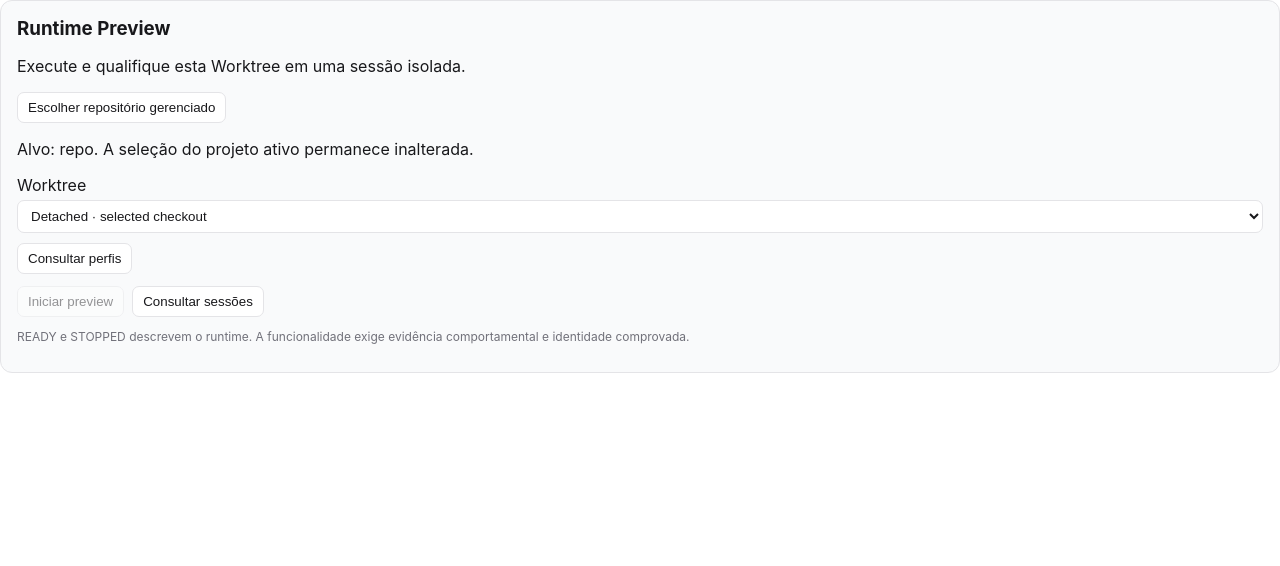
Test: selects another catalog repository without activating it and clears the original worktree and profile
Step 1. Click the button "Escolher repositório gerenciado" → click(122, 108), box left=17, top=92, right=226, bottom=123
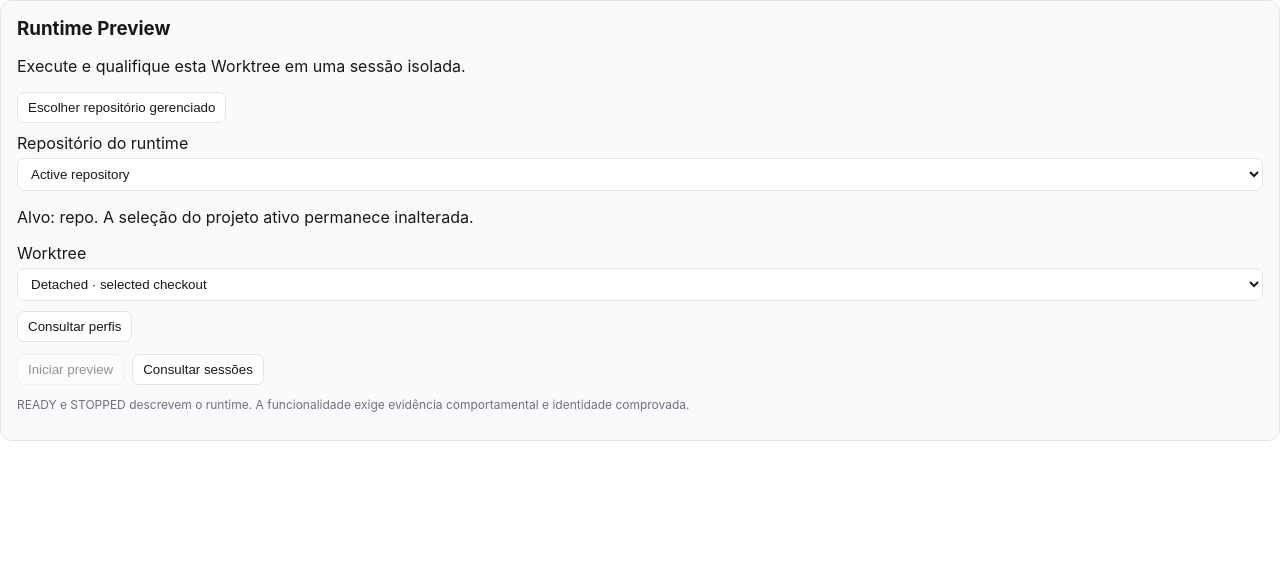
Step 2. Select "Other repository" in the dropdown labelled "Repositório do runtime" → (640, 174), box left=17, top=158, right=1263, bottom=191
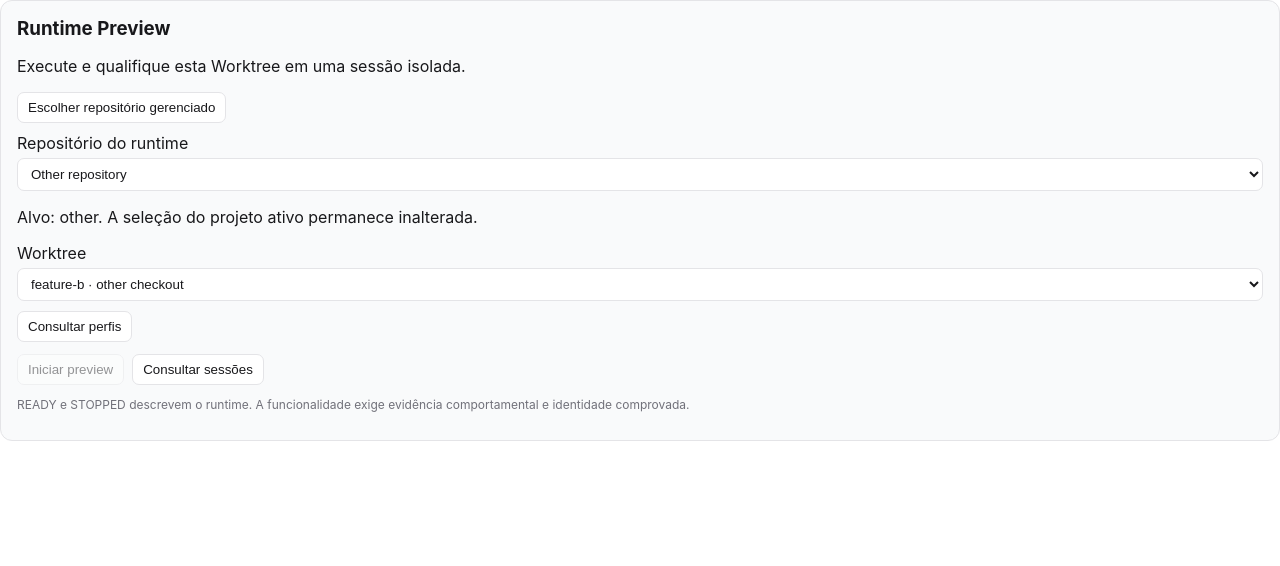
Step 3. Click the button "Consultar perfis" → click(75, 326), box left=17, top=311, right=132, bottom=342
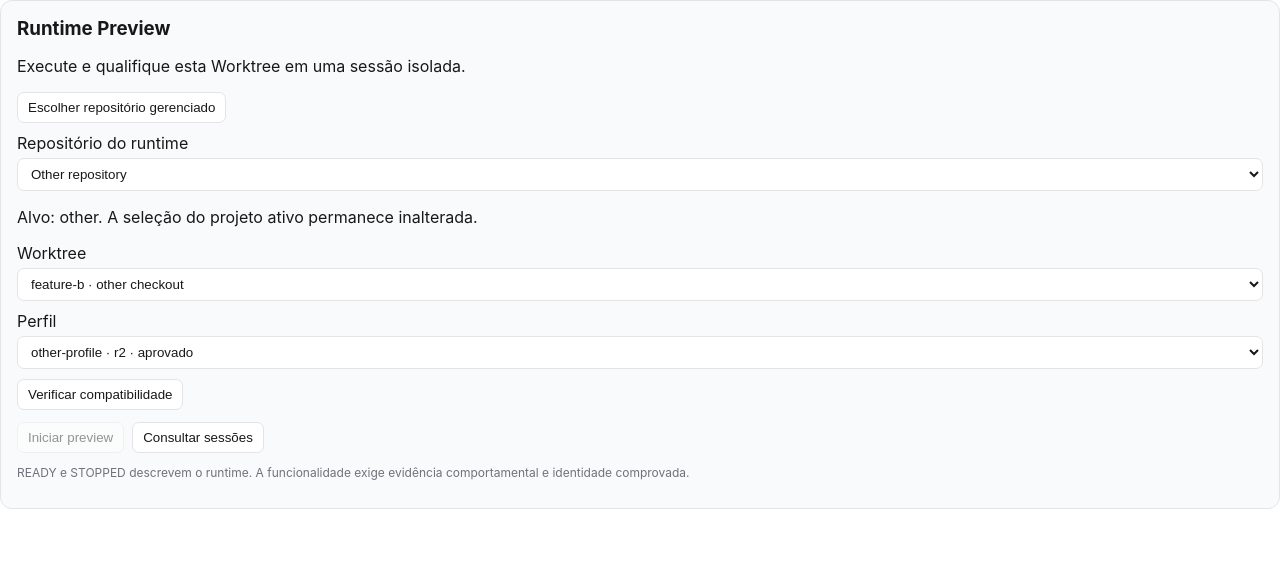
Step 4. Click the button "Verificar compatibilidade" → click(100, 394), box left=17, top=379, right=184, bottom=410
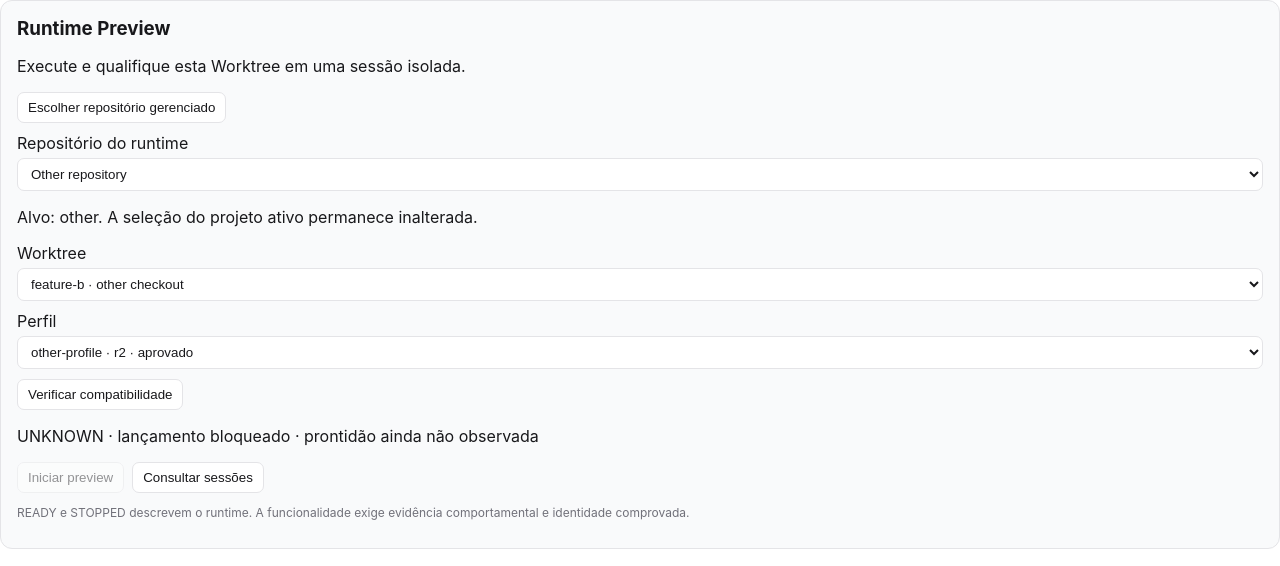
Expected: the message "UNKNOWN · lançamento bloqueado · prontidão ainda não observada" is shown, left=17, top=426, right=539, bottom=446
